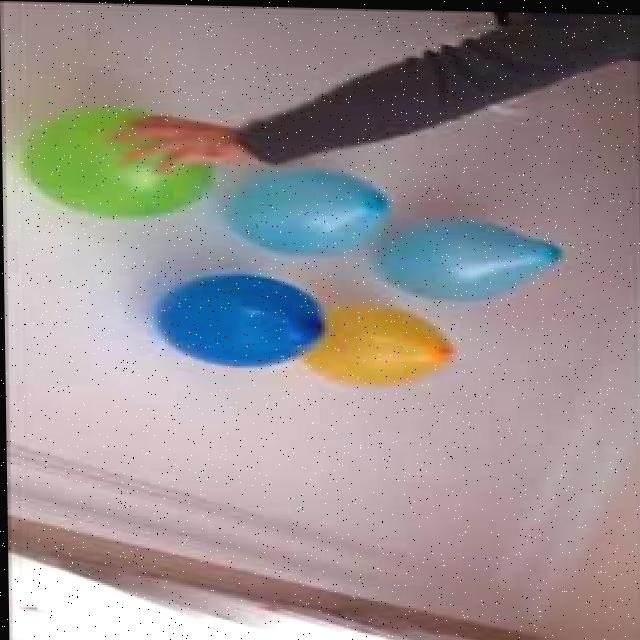balloon: (14, 110, 212, 228), (385, 200, 561, 311), (152, 275, 316, 376), (222, 171, 389, 266), (318, 307, 449, 397)
